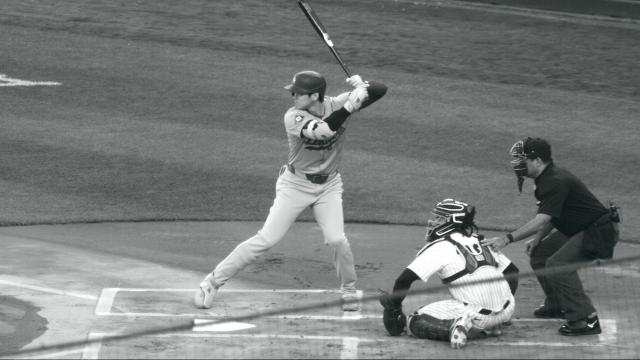bat: (298, 0, 352, 78)
